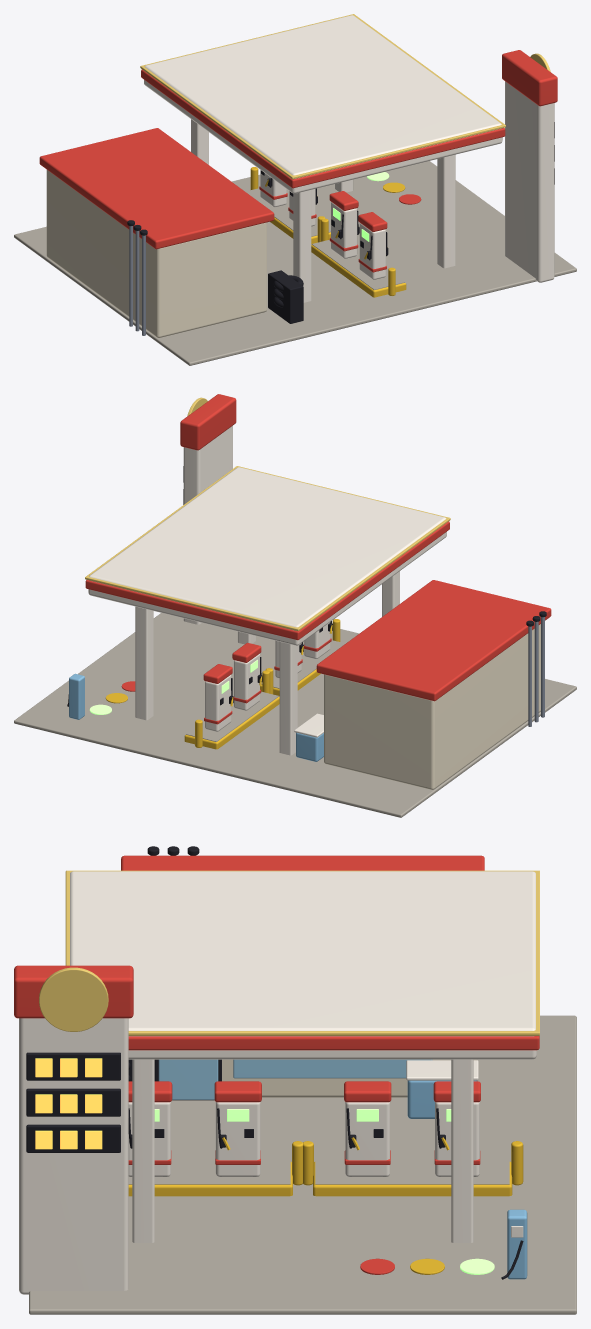
Rendered from gas_station.glb.
3 renders of one model, top to bottom at view 1: azimuth 30°, elevation 25°; view 2: azimuth 150°, elevation 25°; view 3: azimuth 270°, elevation 25°, orthographic. The views are drawn at different scales.
Parts seen in each view (by area): view 1: gas_station; view 2: gas_station; view 3: gas_station.
Part boxes in pixels (box(x1,y1,x2,y2)): gas_station: box(14, 14, 576, 365); gas_station: box(14, 394, 576, 817); gas_station: box(14, 846, 576, 1314).
Size of the model in its own units: 14.32 by 7.3 by 11.3.
Materials: 1 (1 with a texture image).
